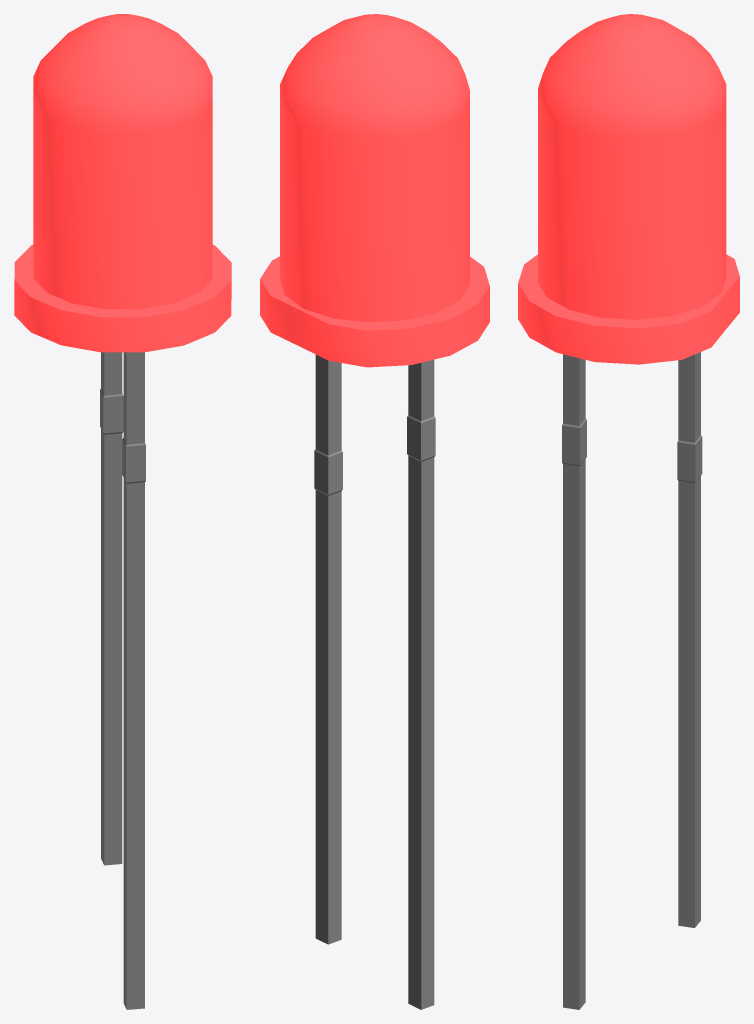
Rendered from led2.glb.
3 views of the same model, side by side, from view 1: azimuth 30°, elevation 25°; view 2: azimuth 150°, elevation 25°; view 3: azimuth 270°, elevation 25° (orthographic). The views are drawn at different scales.
Visible parts, largest first — view 1: Cylinder; view 2: Cylinder; view 3: Cylinder.
Boxes of the visible parts, bbox=[...] form: Cylinder: bbox=[14, 14, 231, 1009]; Cylinder: bbox=[260, 14, 489, 1009]; Cylinder: bbox=[518, 14, 739, 1009].
Size of the model in its own units: 0.3395 by 1.63 by 0.3303.
